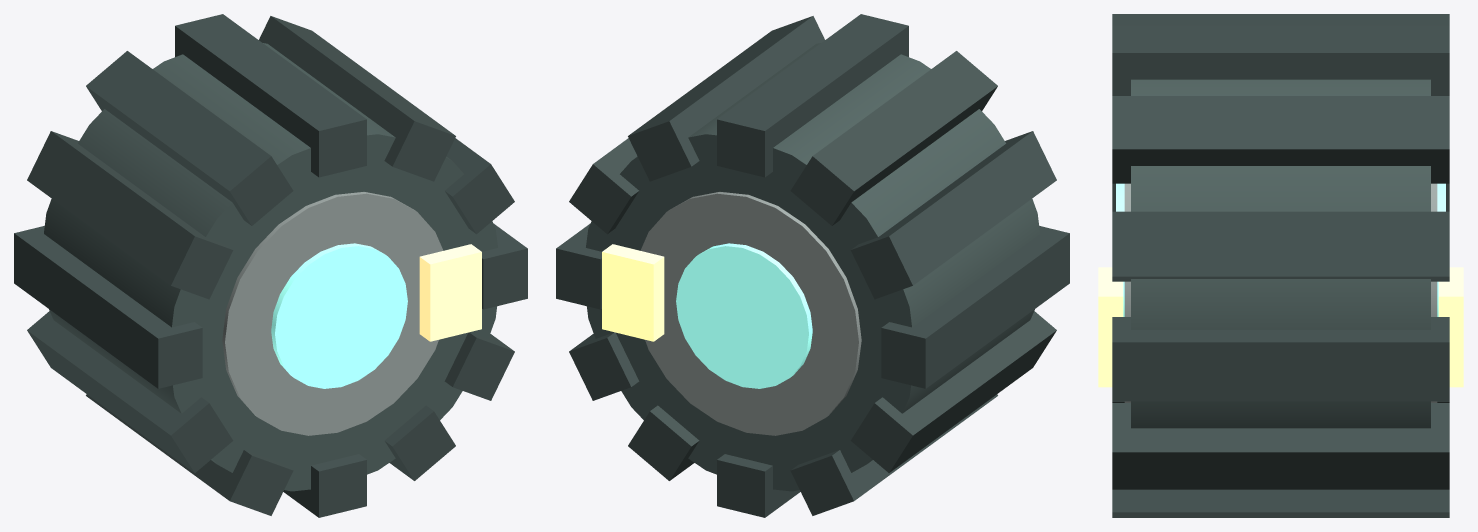
The model's file is wheel_grip.glb.
3 renders of one model, left to right at view 1: azimuth 30°, elevation 25°; view 2: azimuth 150°, elevation 25°; view 3: azimuth 270°, elevation 25°, orthographic. The views are drawn at different scales.
Parts seen in each view (by area): view 1: tire, rim, hub, tread_08, tread_07, tread_06, tread_09, tread_05, tread_10, rotation_witness_left, tread_04, tread_11 (+4 smaller); view 2: tire, rim, hub, tread_08, tread_07, tread_06, tread_09, tread_05, tread_10, rotation_witness_right, tread_04, tread_11 (+4 smaller); view 3: tire, tread_00, tread_10, tread_11, tread_01, tread_09, tread_02, tread_08, rotation_witness_right, rotation_witness_left, rim, hub.
Part boxes in pixels (x1,y1,x2,y2): tire: (44, 43, 497, 491); rim: (222, 192, 443, 435); hub: (271, 243, 407, 388); tread_08: (86, 51, 293, 225); tread_07: (27, 131, 233, 299); tread_06: (14, 226, 202, 388); tread_09: (175, 14, 366, 177); tread_05: (27, 311, 233, 472); tread_10: (259, 16, 455, 181); rotation_witness_left: (419, 244, 481, 341); tread_04: (86, 394, 293, 515); tread_11: (445, 138, 514, 234); tire: (586, 43, 1039, 491); rim: (640, 192, 861, 435); hub: (676, 243, 812, 388); tread_08: (790, 51, 997, 225); tread_07: (850, 131, 1056, 299); tread_06: (881, 226, 1069, 388); tread_09: (717, 14, 908, 177); tread_05: (850, 311, 1056, 472); tread_10: (628, 16, 824, 181); rotation_witness_right: (602, 244, 664, 341); tread_04: (790, 394, 997, 515); tread_11: (569, 138, 638, 234); tire: (1131, 79, 1430, 428); tread_00: (1112, 317, 1449, 401); tread_10: (1112, 96, 1449, 183); tread_11: (1112, 211, 1449, 281); tread_01: (1112, 403, 1449, 489); tread_09: (1112, 25, 1449, 95); tread_02: (1112, 489, 1449, 517); tread_08: (1112, 14, 1449, 25); rotation_witness_right: (1438, 267, 1463, 387); rotation_witness_left: (1098, 267, 1123, 387); rim: (1124, 183, 1437, 402); hub: (1116, 183, 1445, 316).
Bounding box in the file's own units: 0.2 × 0.2 × 0.146.
